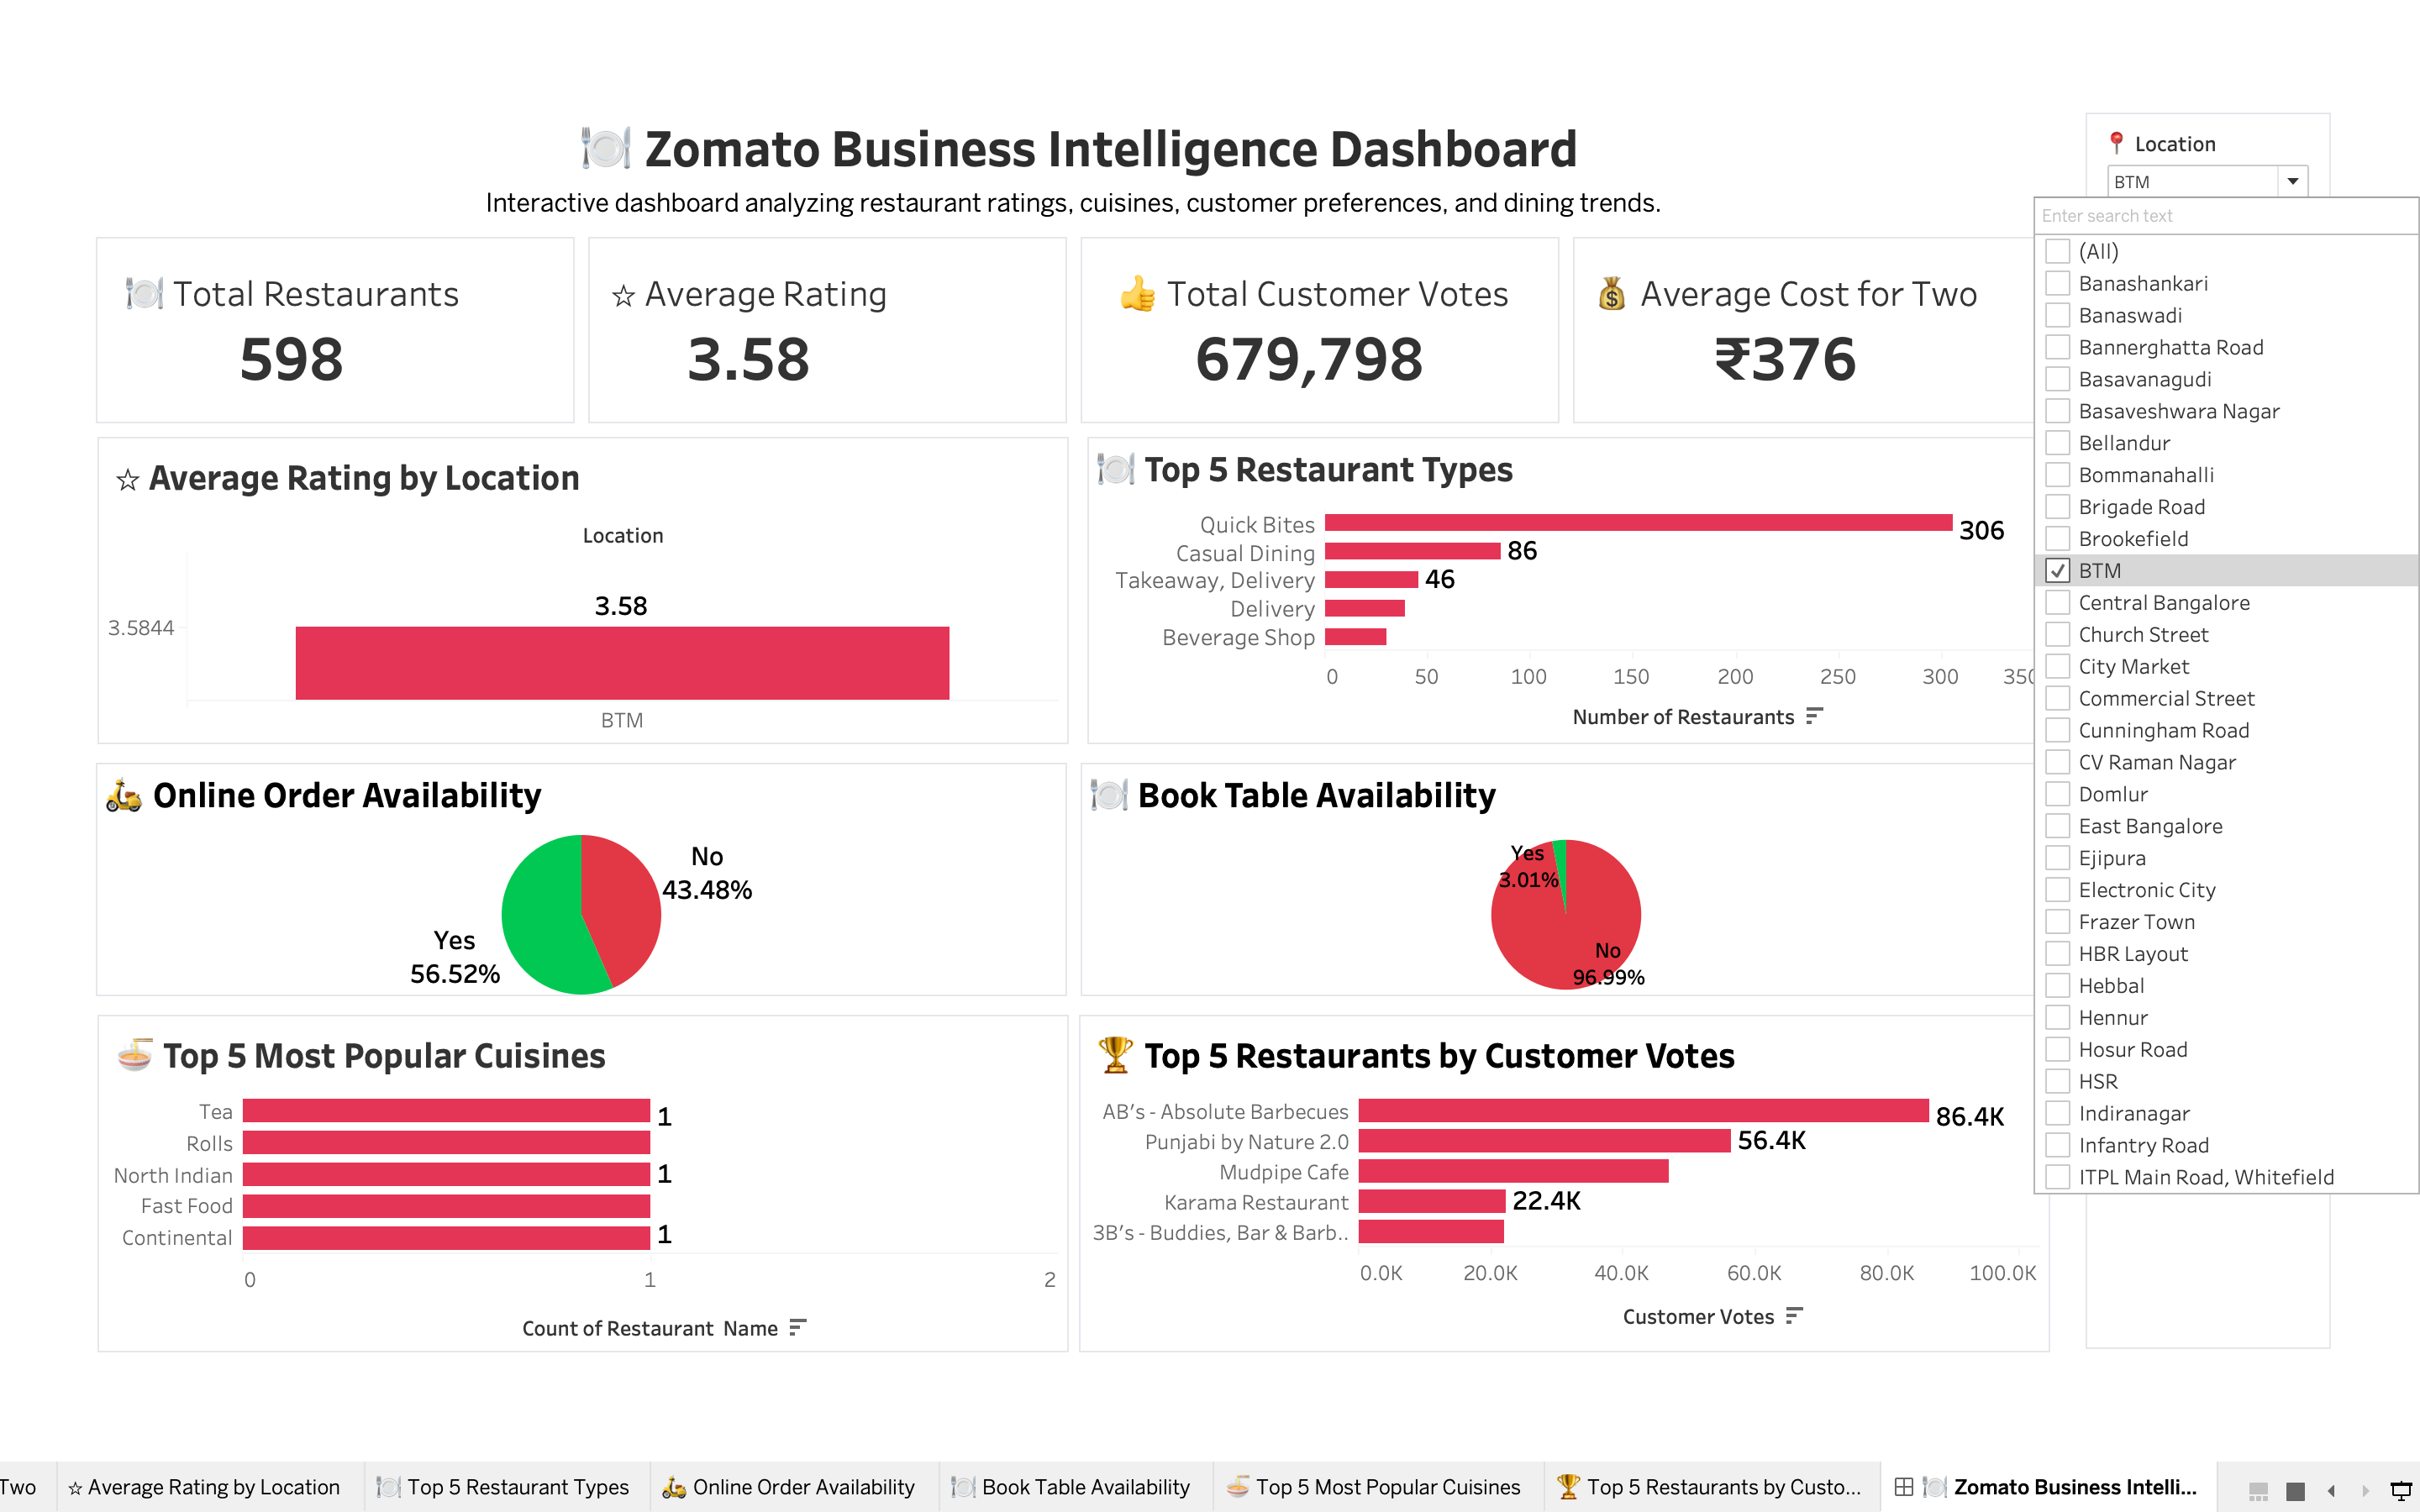

This screenshot's page, from the dashboard's own definition file:
{"tool":"tableau","page":{"name":"Dashboard 1","canvas":[1366,768],"ordinal":0},"visuals":[{"type":"text","box":[8,8,1188,48]},{"type":"filter","title":"⭐ Average Rating by Location","param":"[federated.0ll4oex0261rf5110tdcp1fh8gvq].[none:Location:nk]","box":[1210,22,134,60]},{"type":"text","box":[8,56,1188,32]},{"type":"filter","title":"🛵 Online Order Availability","param":"[federated.0ll4oex0261rf5110tdcp1fh8gvq].[none:Online_Order:nk]","box":[1210,82,134,65]},{"type":"worksheet","title":"🍽️ Total Restaurants","mark":"Automatic","box":[16,88,293,115]},{"type":"worksheet","title":"⭐ Average Rating","mark":"Automatic","box":[309,88,293,115]},{"type":"worksheet","title":"👍 Total Customer Votes","mark":"Automatic","box":[602,88,293,115]},{"type":"worksheet","title":"💰 Average Cost for Two","mark":"Automatic","box":[895,88,293,115]},{"type":"filter","title":"🍽️ Book Table Availability","param":"[federated.0ll4oex0261rf5110tdcp1fh8gvq].[none:Book_Table:nk]","box":[1210,147,134,67]},{"type":"worksheet","title":"⭐ Average Rating by Location","mark":"Bar","rows":["Avg_Rating"],"cols":["Location"],"box":[16,204,586,193]},{"type":"worksheet","title":"🍽 Top 5 Restaurant Types","mark":"Bar","rows":["Rest_Type"],"cols":["Restaurant_Name"],"box":[602,204,586,193]},{"type":"worksheet","title":"🛵 Online Order Availability","mark":"Pie","box":[16,399,586,147]},{"type":"worksheet","title":"🍽️ Book Table Availability","mark":"Pie","box":[602,399,586,147]},{"type":"worksheet","title":"🍜 Top 5 Most Popular Cuisines","mark":"Bar","rows":["Cuisine"],"cols":["Restaurant_Name"],"box":[16,548,586,211]},{"type":"worksheet","title":"🏆 Top 5 Restaurants by Customer Votes","mark":"Automatic","rows":["Restaurant_Name"],"cols":["Total_Votes"],"box":[602,548,586,211]}]}

Visuals, with their boxes on the page's 1366x768 design canvas (x1, y1, x2, y2). These are canvas units, not pixel positions in the 2420x1512 screenshot, which may show the page scaled, cropped or inside an application window:
text: 8,8,1196,56
"⭐ Average Rating by Location" filter: 1210,22,1344,82
text: 8,56,1196,88
"🛵 Online Order Availability" filter: 1210,82,1344,147
"🍽️ Total Restaurants" worksheet: 16,88,309,203
"⭐ Average Rating" worksheet: 309,88,602,203
"👍 Total Customer Votes" worksheet: 602,88,895,203
"💰 Average Cost for Two" worksheet: 895,88,1188,203
"🍽️ Book Table Availability" filter: 1210,147,1344,214
"⭐ Average Rating by Location" worksheet (Bar marks): 16,204,602,397
"🍽 Top 5 Restaurant Types" worksheet (Bar marks): 602,204,1188,397
"🛵 Online Order Availability" worksheet (Pie marks): 16,399,602,546
"🍽️ Book Table Availability" worksheet (Pie marks): 602,399,1188,546
"🍜 Top 5 Most Popular Cuisines" worksheet (Bar marks): 16,548,602,759
"🏆 Top 5 Restaurants by Customer Votes" worksheet: 602,548,1188,759
